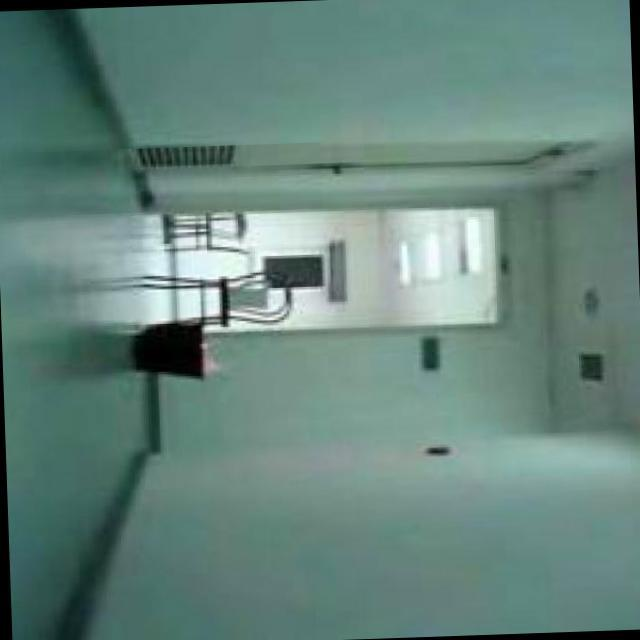Fire: (203, 359, 223, 376), (204, 344, 212, 352)
